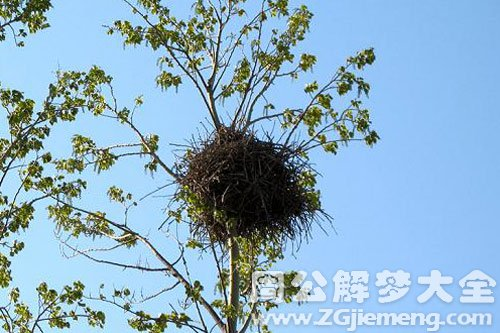bird-nest: (176, 131, 319, 245)
